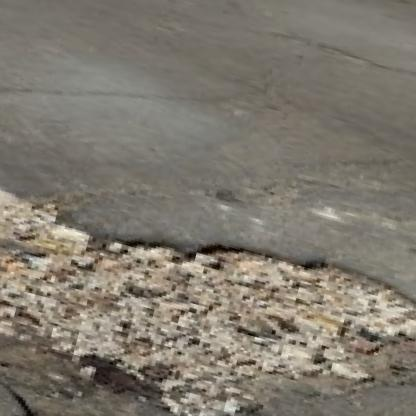pothole: (0, 159, 416, 416)
